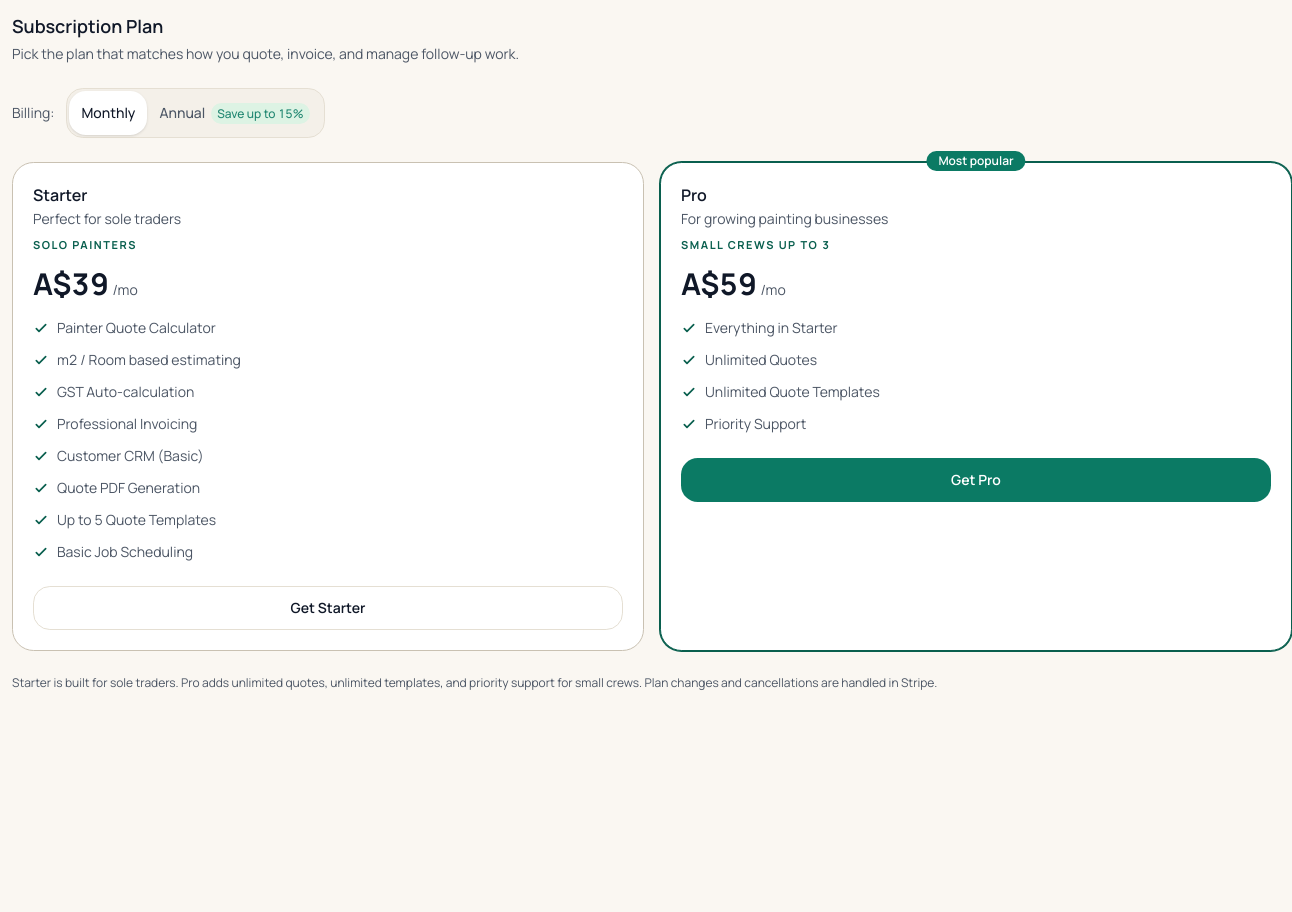
PricingSection › shows checkout failures with canonical visible feedback
Click the button "Get Pro": (976, 480) [681,458,1271,502]
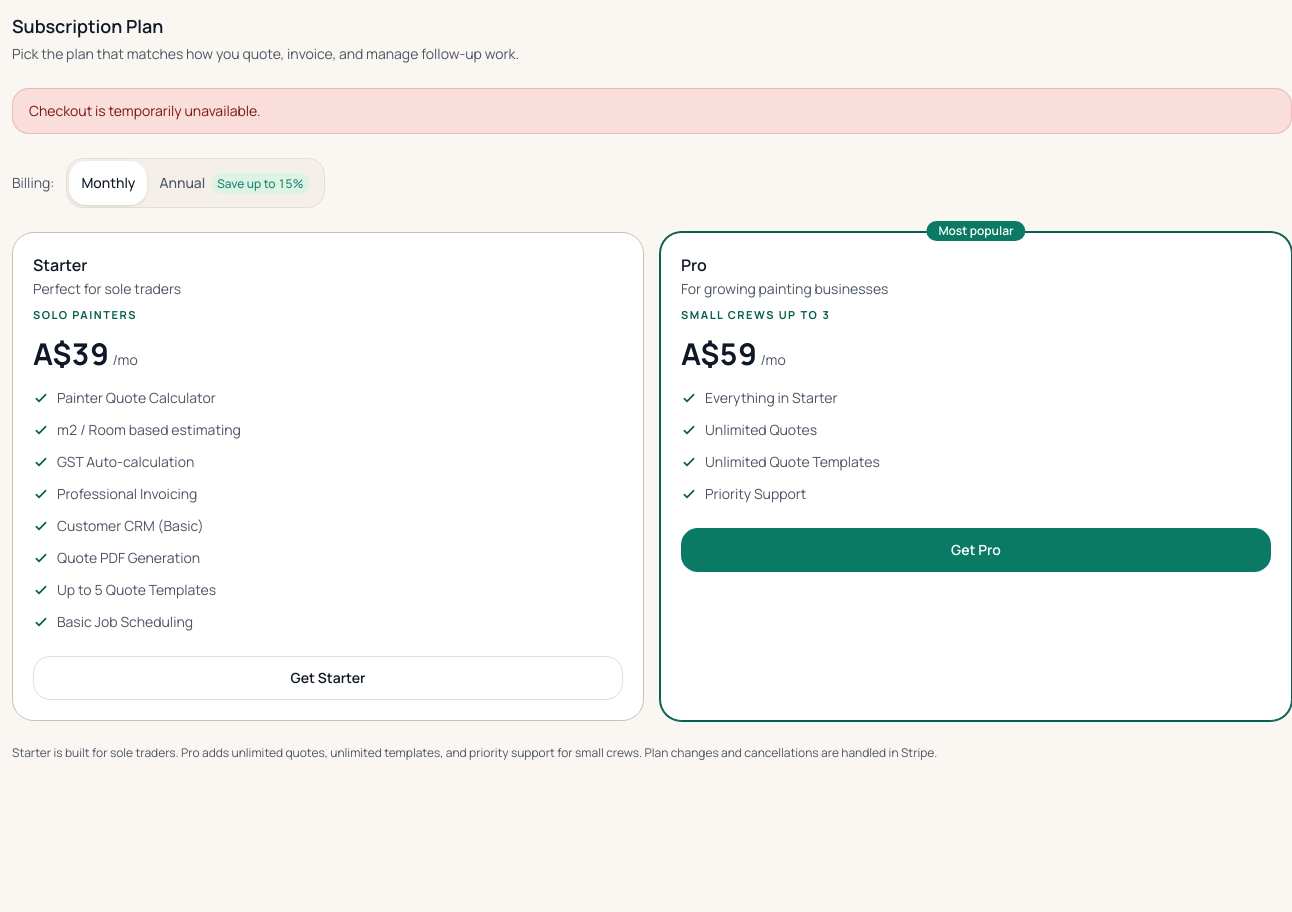
Check: the message reads "Checkout is temporarily unavailable.", box [29,101,260,120]
